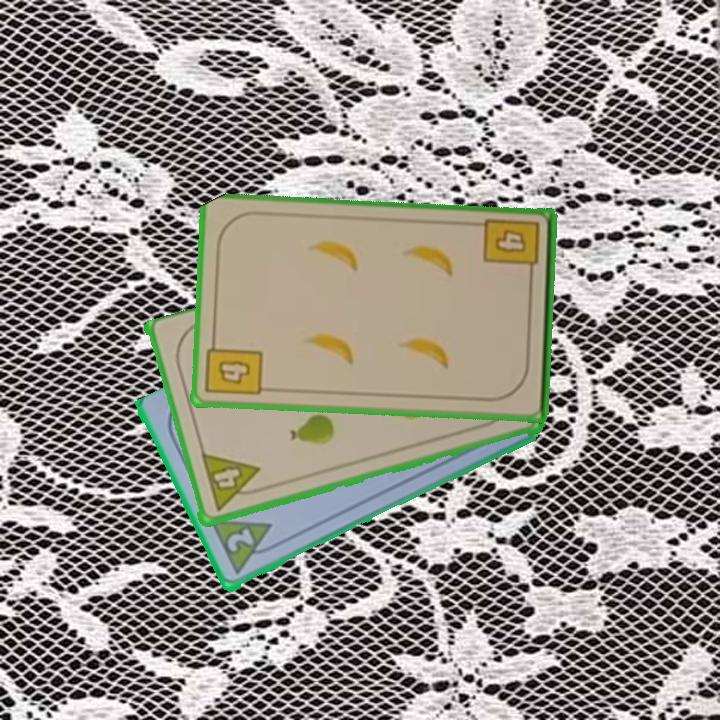2p: (207, 516, 283, 579)
4b: (480, 215, 543, 282), (202, 334, 265, 398)
4p: (198, 450, 266, 515)
